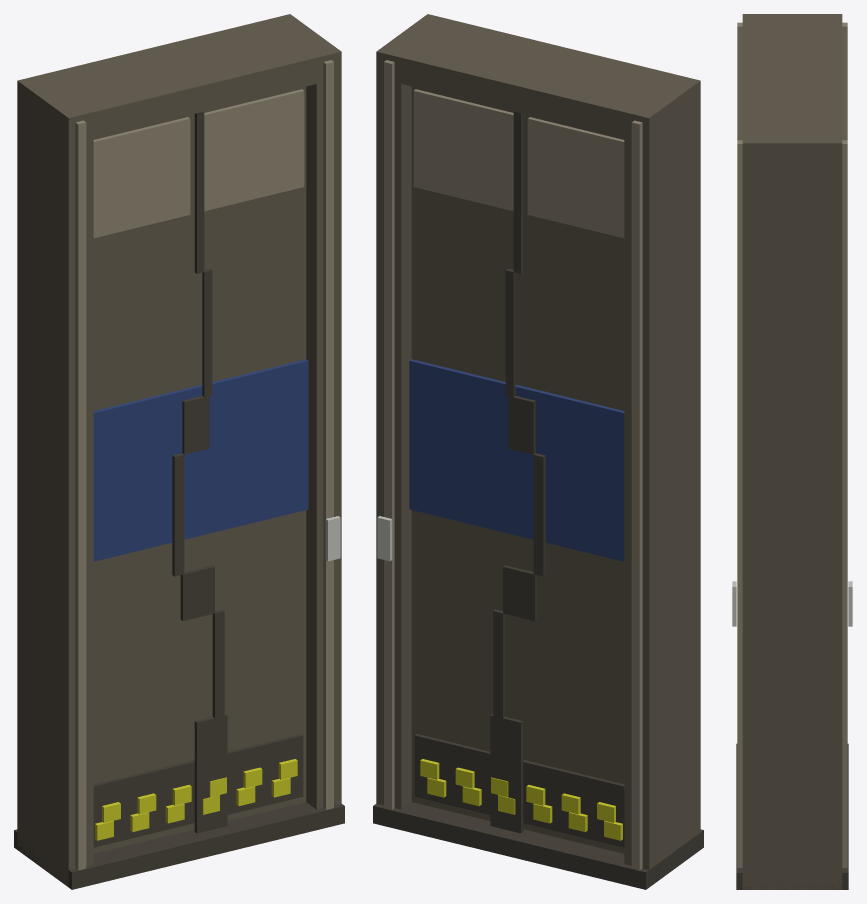
File: CMU3DSingleCommandGovforDoor.glb
3 renders of one model, left to right at view 1: azimuth 30°, elevation 25°; view 2: azimuth 150°, elevation 25°; view 3: azimuth 270°, elevation 25°, orthographic. The views are drawn at different scales.
Visible parts, largest first — view 1: closed leaf body, door jamb (×2), department color band, header, upper inset band (×2), jamb raised edge (×2), leaf meeting seam (×7), lower hazard backing, threshold, side access reader; view 2: closed leaf body, door jamb (×2), department color band back, header, upper inset band back (×2), jamb raised edge (×2), leaf meeting seam back (×7), threshold, lower hazard backing back, side access reader back; view 3: door jamb (×2), header, jamb raised edge (×4), threshold.
Part boxes in pixels (x1,y1,x2,y2): closed leaf body: (93,86,306,853); door jamb (×2): (17,14,341,887); department color band: (93,359,308,561); header: (17,14,341,144); upper inset band (×2): (93,89,304,238); jamb raised edge (×2): (75,60,333,870); leaf meeting seam (×7): (172,111,227,833); lower hazard backing: (93,734,303,847); threshold: (14,802,344,889); side access reader: (325,516,340,561); closed leaf body: (411,86,624,853); door jamb (×2): (376,14,700,869); department color band back: (409,359,624,561); header: (376,14,700,144); upper inset band back (×2): (413,89,624,238); jamb raised edge (×2): (384,60,642,870); leaf meeting seam back (×7): (490,111,545,833); threshold: (373,802,703,889); lower hazard backing back: (414,734,624,847); side access reader back: (377,516,392,561); door jamb (×2): (742,14,842,889); header: (742,14,842,168); jamb raised edge (×4): (737,22,847,867); threshold: (736,743,848,889).
Bounding box in the file's own units: 0.98 × 2.64 × 0.386.
